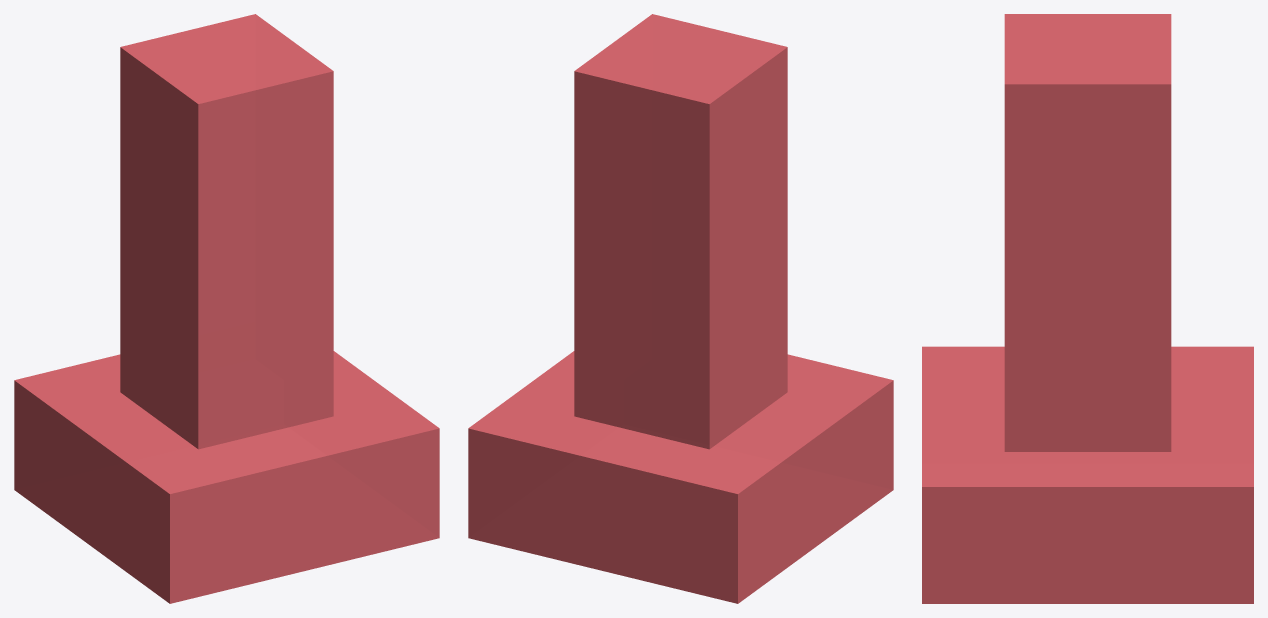
3 views of the same model, side by side, from view 1: azimuth 30°, elevation 25°; view 2: azimuth 150°, elevation 25°; view 3: azimuth 270°, elevation 25° (orthographic). The views are drawn at different scales.
Visible parts, largest first — view 1: Cube; view 2: Cube; view 3: Cube.
Part boxes in pixels (left/top/right/bottom): Cube: left=14, top=14, right=439, bottom=603; Cube: left=468, top=14, right=893, bottom=603; Cube: left=922, top=14, right=1253, bottom=603.
Bounding box in the file's own units: 0.6582 × 1.06 × 0.6582.
